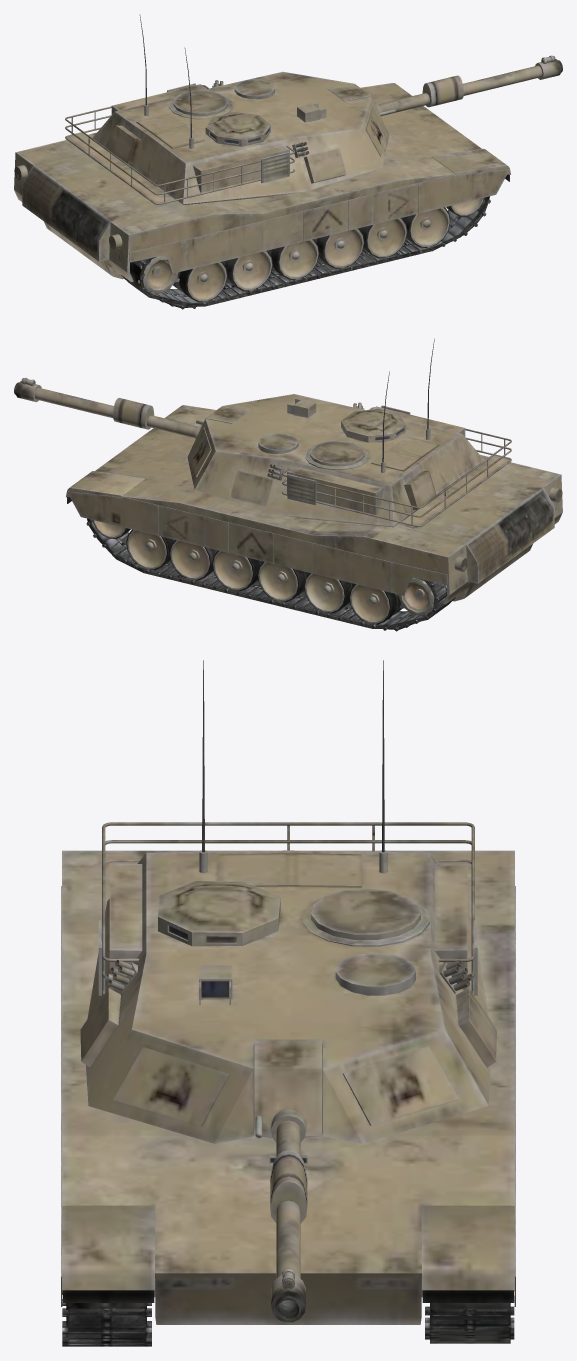
File: tank.glb
3 views of the same model, one above another, from view 1: azimuth 30°, elevation 25°; view 2: azimuth 150°, elevation 25°; view 3: azimuth 270°, elevation 25° (orthographic). The views are drawn at different scales.
Visible parts, largest first — view 1: Abrams_Tower, Abrams_Hull, Abrams_HullArmor, Abrams_CaterpillarR, Abrams_CaterpillarAnimR, Abrams_RollersR7, Abrams_RollersR5, Abrams_RollersR4, Abrams_RollersR6, Abrams_RollersR2, Abrams_RollersR3, M1A2_MainRollerR (+1 smaller); view 2: Abrams_Tower, Abrams_Hull, Abrams_HullArmor, Abrams_CaterpillarAnimL, Abrams_CaterpillarL, Abrams_Rollers7L, Abrams_Rollers5L, Abrams_Rollers6L, Abrams_Rollers4L, Abrams_Rollers3L, Abrams_Rollers2L, M1A2_MainRollerL (+1 smaller); view 3: Abrams_Tower, Abrams_Hull, Abrams_CaterpillarAnimR, Abrams_CaterpillarAnimL, Abrams_CaterpillarL, Abrams_HullArmor.
Boxes of the visible parts, x1=… form: Abrams_Tower: x1=65, y1=14, x2=562, y2=204; Abrams_Hull: x1=14, y1=83, x2=510, y2=281; Abrams_HullArmor: x1=129, y1=169, x2=509, y2=273; Abrams_CaterpillarR: x1=121, y1=196, x2=489, y2=306; Abrams_CaterpillarAnimR: x1=133, y1=199, x2=490, y2=309; Abrams_RollersR7: x1=173, y1=261, x2=227, y2=302; Abrams_RollersR5: x1=268, y1=239, x2=319, y2=279; Abrams_RollersR4: x1=314, y1=228, x2=364, y2=268; Abrams_RollersR6: x1=222, y1=250, x2=272, y2=291; Abrams_RollersR2: x1=402, y1=207, x2=450, y2=247; Abrams_RollersR3: x1=359, y1=218, x2=407, y2=258; M1A2_MainRollerR: x1=138, y1=256, x2=179, y2=295; Abrams_Tower: x1=14, y1=338, x2=511, y2=527; Abrams_Hull: x1=66, y1=405, x2=562, y2=604; Abrams_HullArmor: x1=67, y1=491, x2=447, y2=595; Abrams_CaterpillarAnimL: x1=86, y1=522, x2=446, y2=631; Abrams_CaterpillarL: x1=87, y1=518, x2=455, y2=628; Abrams_Rollers7L: x1=349, y1=584, x2=402, y2=624; Abrams_Rollers5L: x1=257, y1=561, x2=309, y2=601; Abrams_Rollers6L: x1=304, y1=573, x2=354, y2=613; Abrams_Rollers4L: x1=212, y1=550, x2=262, y2=590; Abrams_Rollers3L: x1=169, y1=540, x2=217, y2=580; Abrams_Rollers2L: x1=126, y1=529, x2=174, y2=570; M1A2_MainRollerL: x1=395, y1=578, x2=438, y2=618; Abrams_Tower: x1=80, y1=660, x2=496, y2=1322; Abrams_Hull: x1=62, y1=850, x2=514, y2=1324; Abrams_CaterpillarAnimR: x1=62, y1=1290, x2=151, y2=1346; Abrams_CaterpillarAnimL: x1=425, y1=1290, x2=514, y2=1339; Abrams_CaterpillarL: x1=430, y1=1303, x2=510, y2=1343; Abrams_HullArmor: x1=61, y1=886, x2=515, y2=1306.
Bounding box in the file's own units: 10.13 × 4.48 × 4.
2 materials, 2 textured.
